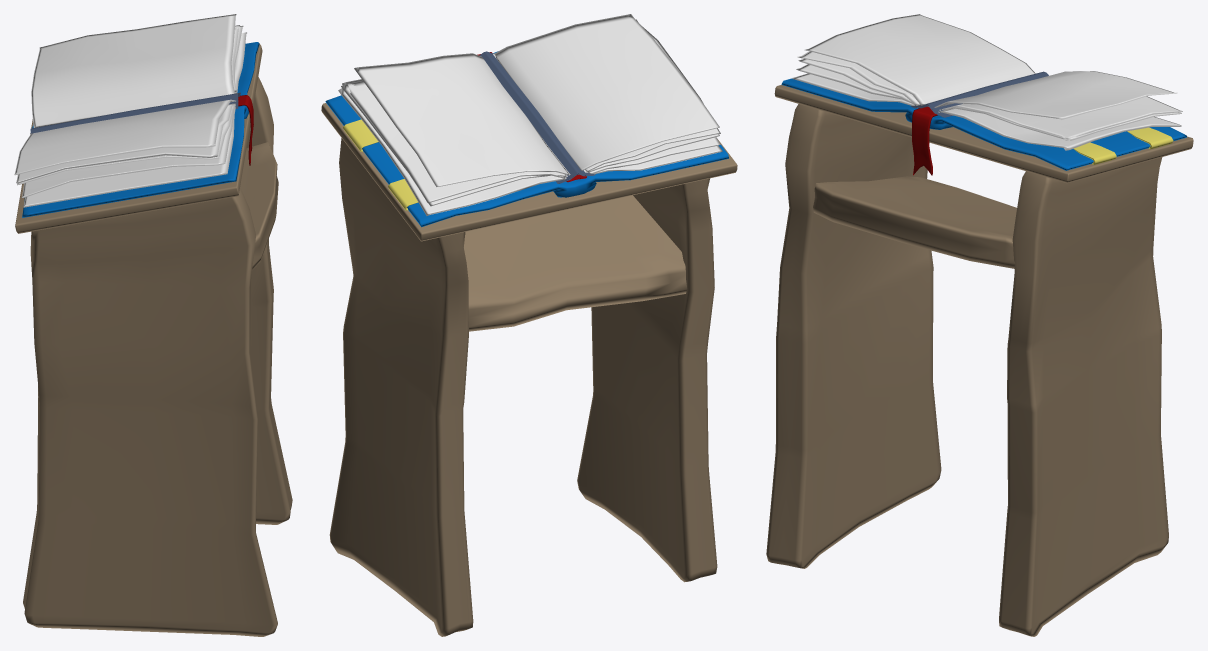
Rendered from Leggio2.fbx.
3 renders of one model, left to right at view 1: azimuth 30°, elevation 25°; view 2: azimuth 150°, elevation 25°; view 3: azimuth 270°, elevation 25°, orthographic.
Visible parts, largest first — view 1: fabio_ferrara_production_modeling_wk4_958079102__1_:polySurf (×9); view 2: fabio_ferrara_production_modeling_wk4_958079102__1_:polySurf (×12), polySurface27; view 3: fabio_ferrara_production_modeling_wk4_958079102__1_:polySurf (×12), polySurface27.
Boxes of the visible parts, x1,y1,x2,y2 form: fabio_ferrara_production_modeling_wk4_958079102__1_:polySurf (×9): (14, 14, 292, 636); fabio_ferrara_production_modeling_wk4_958079102__1_:polySurf (×12): (321, 14, 737, 636); polySurface27: (341, 80, 567, 206); fabio_ferrara_production_modeling_wk4_958079102__1_:polySurf (×12): (766, 14, 1193, 636); polySurface27: (939, 103, 1181, 140).
Bounding box in the file's own units: 3.21 × 4.47 × 3.45.
